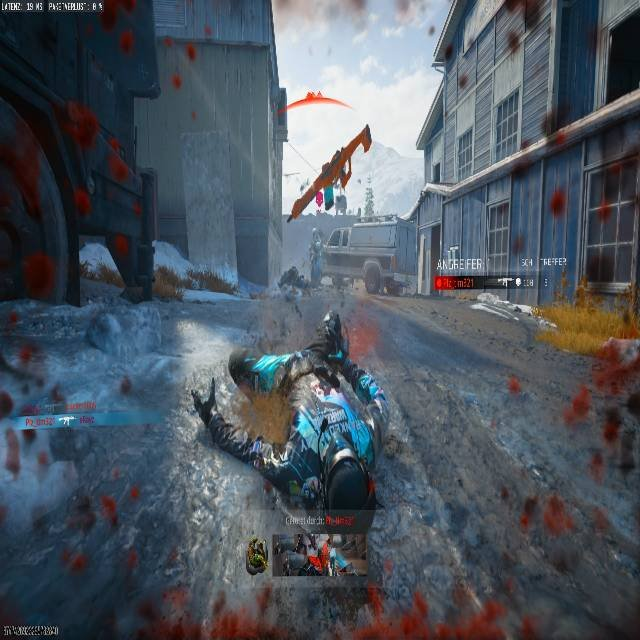head: (316, 310, 350, 361)
player: (190, 313, 388, 573), (278, 266, 308, 316)
